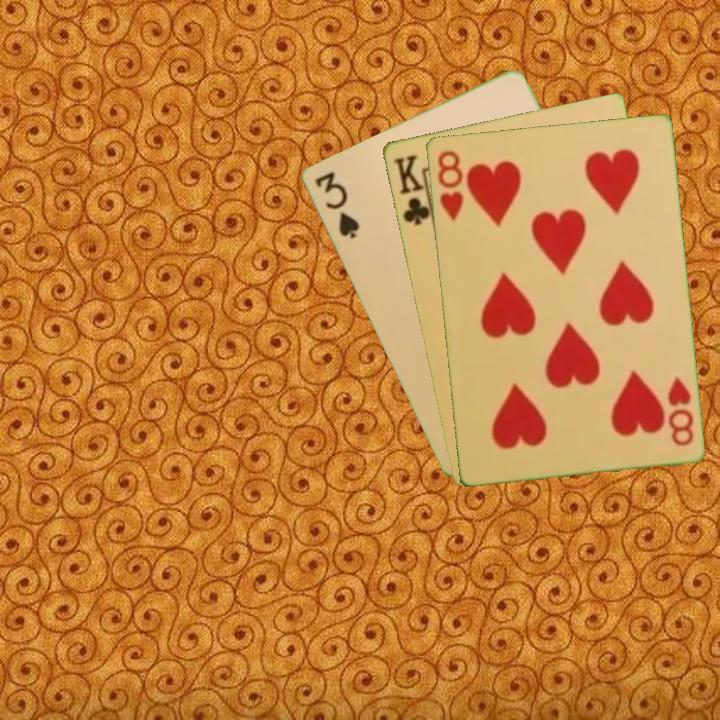3s: (310, 167, 362, 242)
8h: (663, 372, 696, 449), (433, 147, 466, 223)
Kc: (390, 150, 436, 229)
